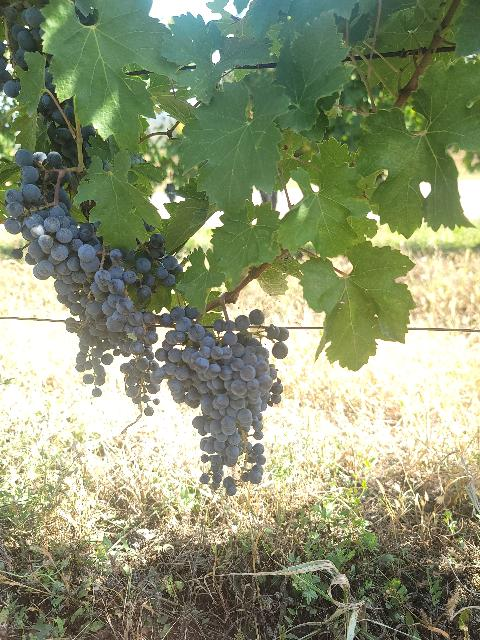grapes: (5, 149, 101, 315), (185, 346, 266, 495), (211, 311, 282, 416), (155, 306, 210, 402), (114, 325, 161, 416), (65, 292, 105, 385)
